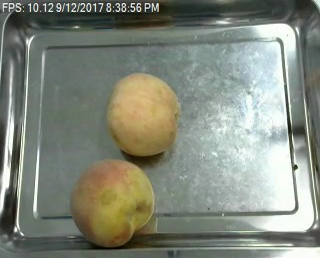Peach: (70, 158, 154, 248), (105, 72, 179, 155)
